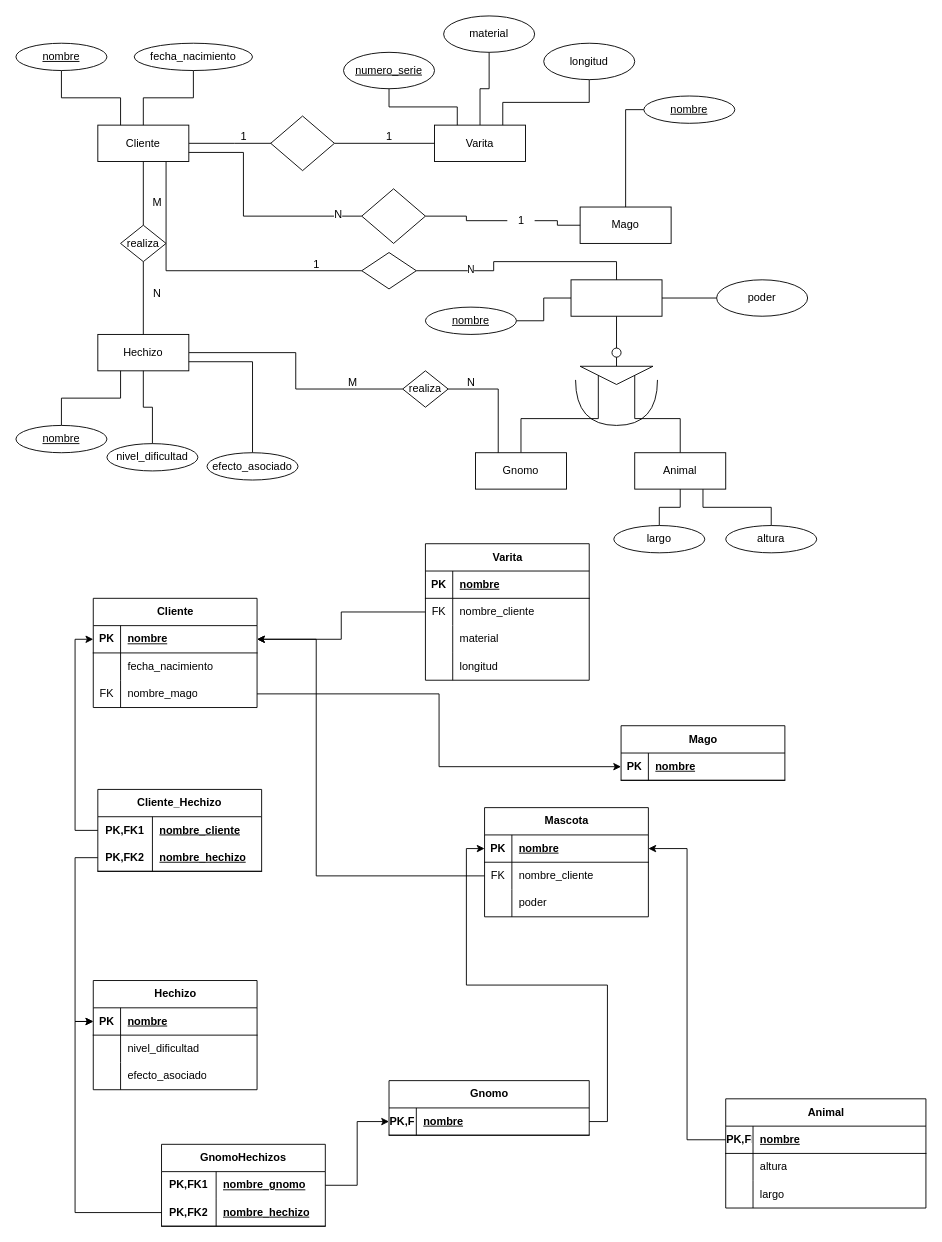
Some shapes in this 942 by 1242 pixel diagram are drawn without their labels. Here are the shapes that lost their labels. From the top down, the centre of each, then its label:
At (x=302, y=143): "tiene".
At (x=393, y=215): "enseña".
At (x=388, y=270): "viajar".
At (x=616, y=297): "Mascotas".
